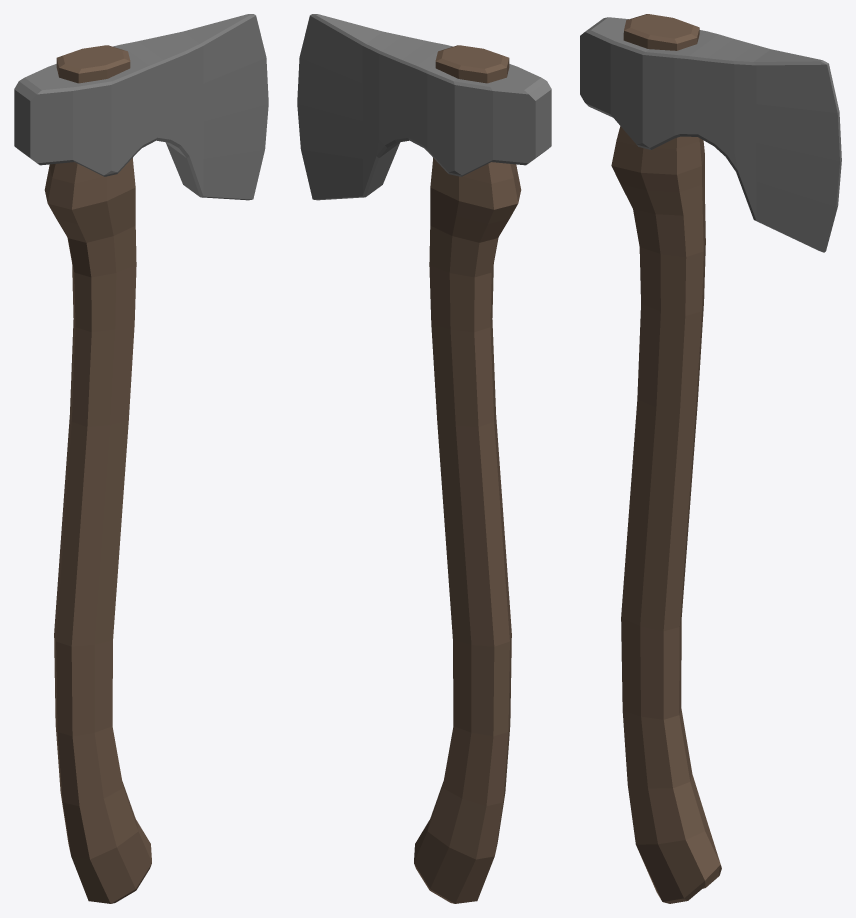
File: Lumberjack_s Axe.glb
3 views of the same model, side by side, from view 1: azimuth 30°, elevation 25°; view 2: azimuth 150°, elevation 25°; view 3: azimuth 330°, elevation 25° (orthographic). The views are drawn at different scales.
Visible parts, largest first — view 1: Lumberjack's Axe; view 2: Lumberjack's Axe; view 3: Lumberjack's Axe.
Part boxes in pixels (bbox=[...]): Lumberjack's Axe: bbox=[14, 14, 268, 903]; Lumberjack's Axe: bbox=[297, 14, 551, 903]; Lumberjack's Axe: bbox=[580, 14, 841, 903].
Bounding box in the file's own units: 0.5659 × 1.87 × 0.1449.
1 material, 1 textured.
